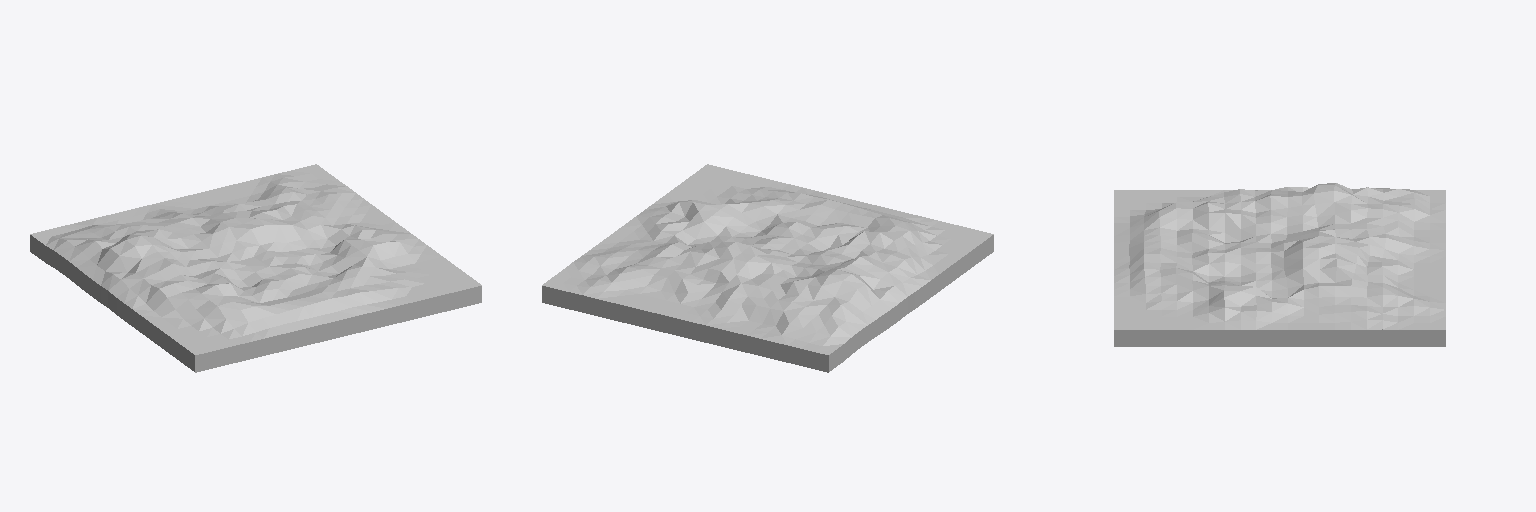
File: plane one.obj
3 renders of one model, left to right at view 1: azimuth 30°, elevation 25°; view 2: azimuth 150°, elevation 25°; view 3: azimuth 270°, elevation 25°, orthographic.
Parts seen in each view (by area): view 1: Plane_Material.004; view 2: Plane_Material.004; view 3: Plane_Material.004.
Part boxes in pixels (x1,y1,x2,y2): Plane_Material.004: (30, 164, 481, 372); Plane_Material.004: (542, 164, 993, 372); Plane_Material.004: (1114, 183, 1445, 346).
Bounding box in the file's own units: 100 × 14.84 × 100.